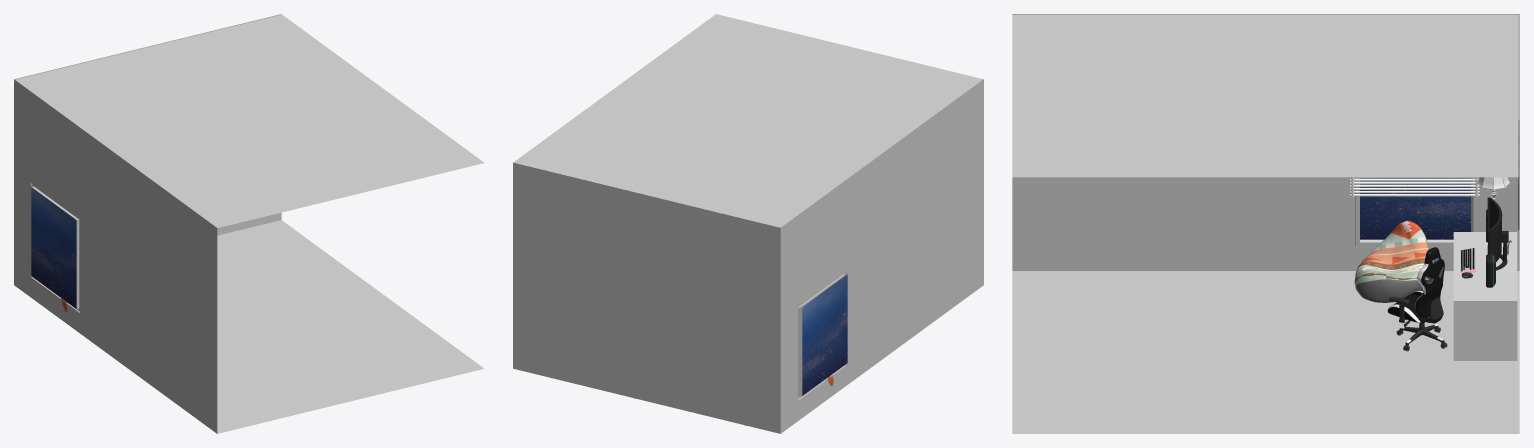
The model's file is gamingroom.glb.
The picture shows the model from 3 angles, left to right: view 1: azimuth 30°, elevation 25°; view 2: azimuth 150°, elevation 25°; view 3: azimuth 270°, elevation 25°; orthographic projection. The views are drawn at different scales.
Parts seen in each view (by area): view 1: BUILDING; view 2: BUILDING; view 3: BUILDING, MEJA, BEAN BAG.001, GAMING CHAIR, JENDELA, MONITOR.
Boxes of the visible parts, <box> form: BUILDING: <box>14,14,484,433</box>; BUILDING: <box>513,14,983,433</box>; BUILDING: <box>1012,14,1519,433</box>; MEJA: <box>1453,232,1517,360</box>; BEAN BAG.001: <box>1354,220,1428,302</box>; GAMING CHAIR: <box>1387,247,1447,351</box>; JENDELA: <box>1350,177,1479,197</box>; MONITOR: <box>1487,197,1508,270</box>.
Bounding box in the file's own units: 5.38 × 3.96 × 7.01.
18 materials, 7 textured.
